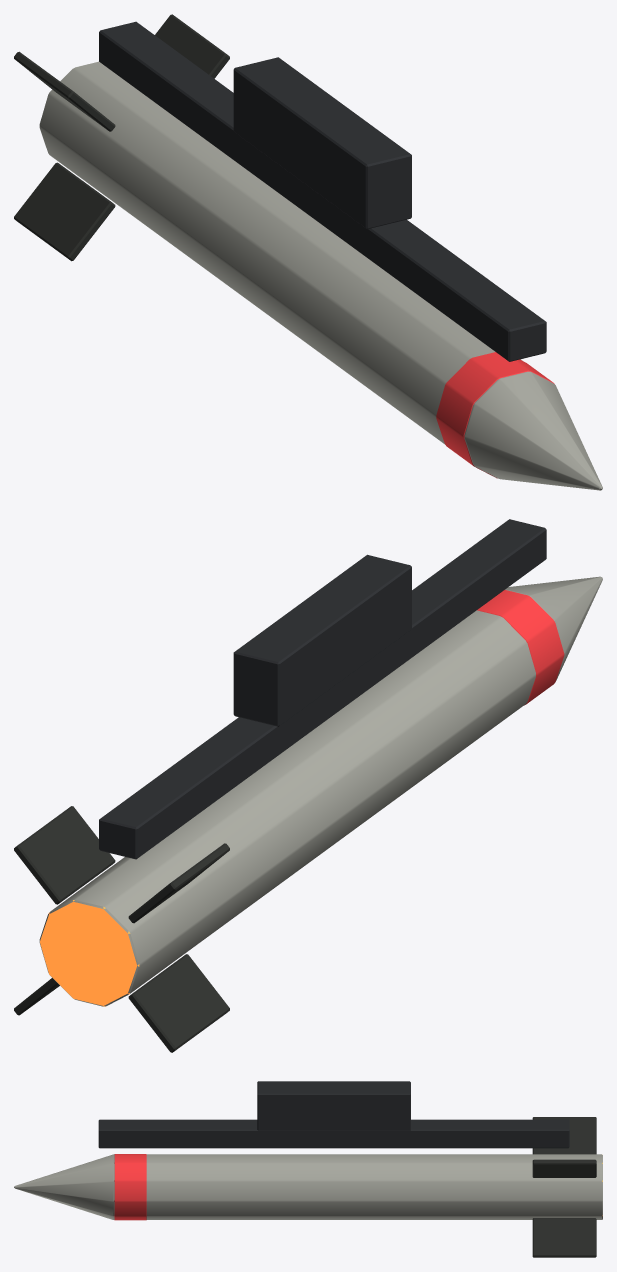
File: Rack_GroundSeeker.fbx
3 views of the same model, one above another, from view 1: azimuth 30°, elevation 25°; view 2: azimuth 150°, elevation 25°; view 3: azimuth 270°, elevation 25° (orthographic). The views are drawn at different scales.
Parts seen in each view (by area): view 1: Rack_GroundSeeker; view 2: Rack_GroundSeeker; view 3: Rack_GroundSeeker.
Boxes of the visible parts, x1,y1,x2,y2 form: Rack_GroundSeeker: (14, 14, 602, 490); Rack_GroundSeeker: (14, 519, 602, 1052); Rack_GroundSeeker: (14, 1081, 602, 1257).
Size of the model in its own units: 0.4189 by 0.6394 by 2.3.
